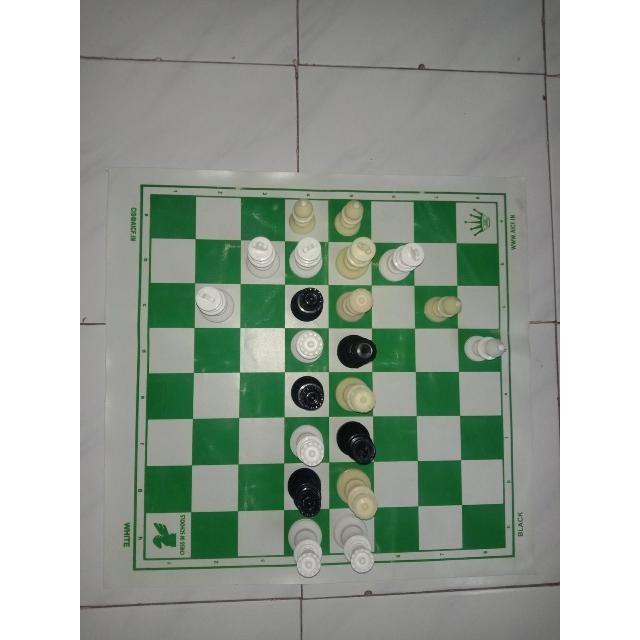black-king: (333, 418, 381, 464)
black-queen: (285, 464, 329, 515), (334, 328, 381, 372), (284, 373, 330, 415), (287, 282, 326, 324)
white-bishop: (332, 197, 370, 237), (461, 330, 505, 364), (280, 197, 319, 235), (421, 295, 467, 322)
white-king: (378, 239, 426, 284), (331, 234, 377, 280), (194, 283, 236, 327), (242, 232, 281, 279), (288, 235, 326, 279)
white-queen: (334, 465, 382, 520), (331, 518, 376, 576), (285, 517, 326, 579), (331, 374, 379, 415), (287, 422, 330, 466), (333, 286, 377, 326), (286, 326, 326, 368)
